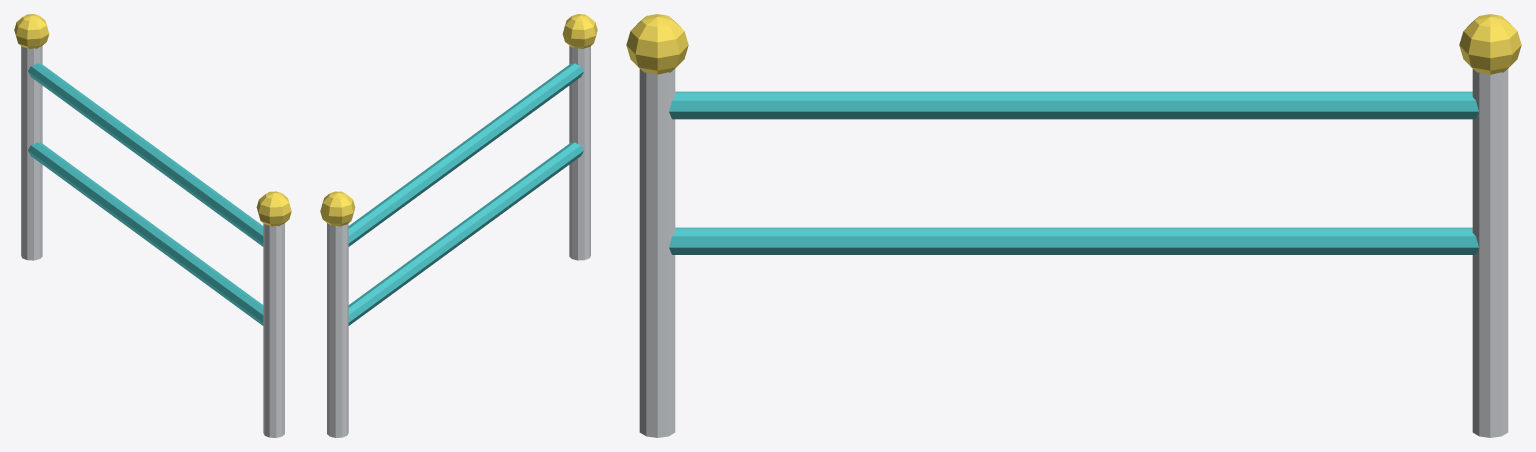
Rendered from theme-park-rides-and-coasters-theme-park-rides-and-coa-4347e5ea__28665.glb.
The picture shows the model from 3 angles, left to right: view 1: azimuth 30°, elevation 25°; view 2: azimuth 150°, elevation 25°; view 3: azimuth 270°, elevation 25°; orthographic projection. The views are drawn at different scales.
Visible parts, largest first — view 1: theme-park-rides-and-coasters-queue-rail-straight; view 2: theme-park-rides-and-coasters-queue-rail-straight; view 3: theme-park-rides-and-coasters-queue-rail-straight.
Boxes of the visible parts, x1,y1,x2,y2 form: theme-park-rides-and-coasters-queue-rail-straight: [14, 14, 291, 437]; theme-park-rides-and-coasters-queue-rail-straight: [320, 14, 597, 437]; theme-park-rides-and-coasters-queue-rail-straight: [626, 14, 1521, 437].
Size of the model in its own units: 0.1499 by 1.09 by 2.15.
